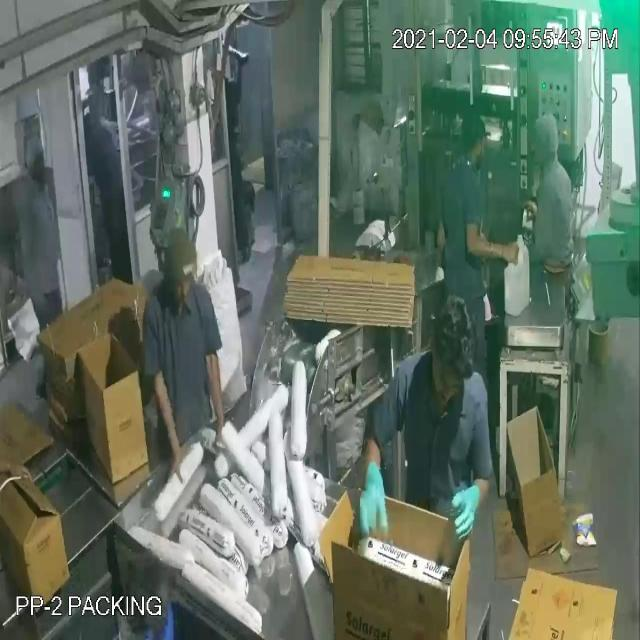gloves: (348, 446, 392, 550), (442, 481, 496, 539)
no-gloves: (461, 212, 529, 282), (155, 352, 189, 487), (200, 344, 236, 467)
